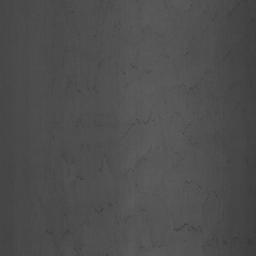Silk spot: (128, 117, 155, 131), (128, 156, 147, 172), (248, 208, 256, 245), (173, 223, 202, 232), (179, 84, 199, 96), (228, 2, 240, 17), (99, 154, 109, 172), (151, 240, 168, 248), (73, 244, 83, 256), (95, 206, 104, 216)
